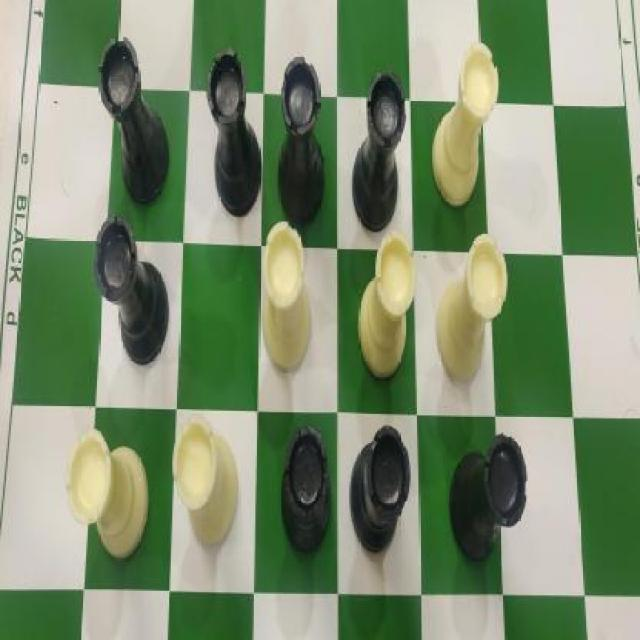black-rook: (97, 36, 170, 205), (94, 213, 170, 365), (448, 433, 528, 561), (207, 47, 262, 217), (352, 70, 406, 231), (349, 424, 412, 554), (277, 55, 325, 222), (280, 424, 332, 551)
white-rook: (64, 430, 150, 559), (432, 42, 499, 207), (434, 233, 508, 377), (171, 416, 239, 542), (357, 232, 415, 378), (261, 221, 312, 367)
